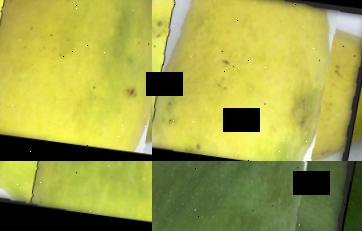PartiallyRipe: (0, 161, 152, 231)
Ripe: (152, 0, 362, 161), (0, 0, 152, 160)
Unripe: (152, 161, 361, 231)
